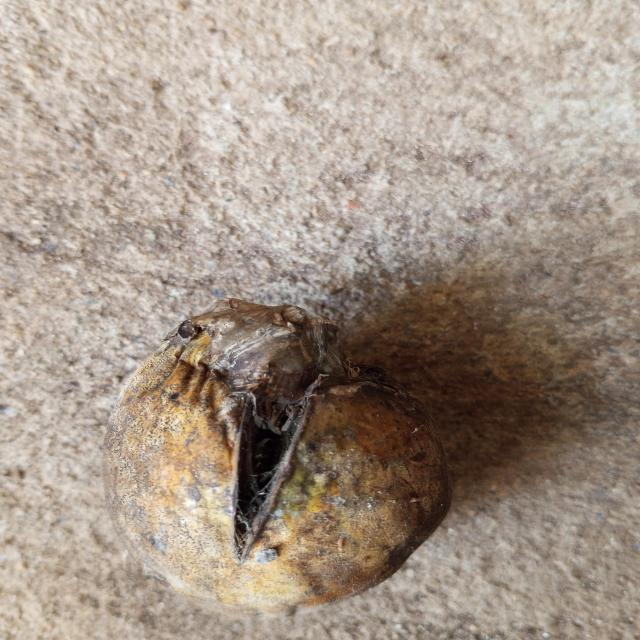damaged: (104, 299, 450, 615)
